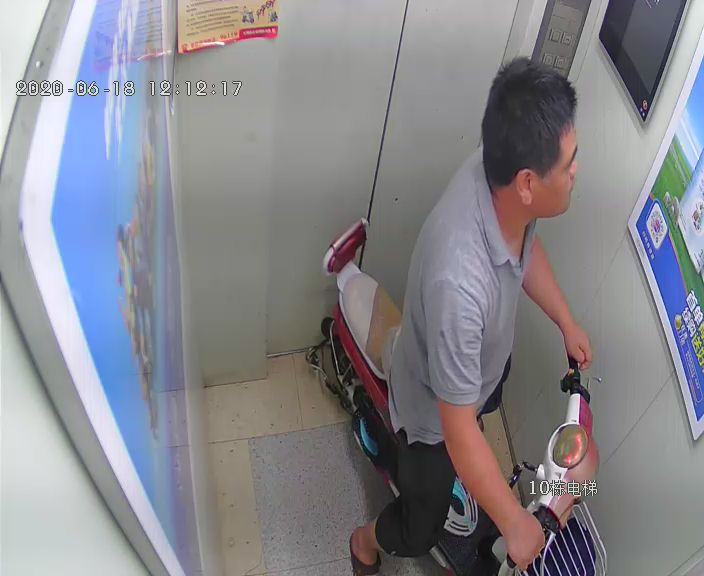Electric-bicycle: (306, 219, 608, 574)
